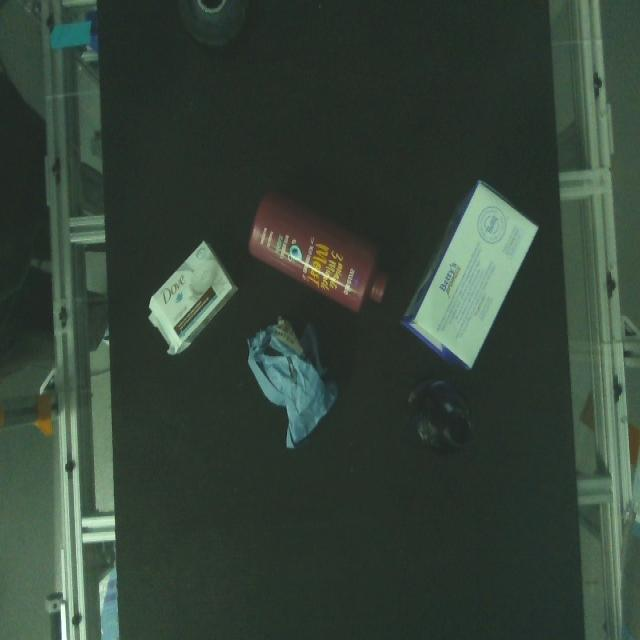non-paper: (245, 186, 391, 316), (401, 375, 477, 459), (170, 0, 257, 53)
paper: (398, 175, 542, 372), (245, 312, 341, 452), (145, 235, 241, 360)
